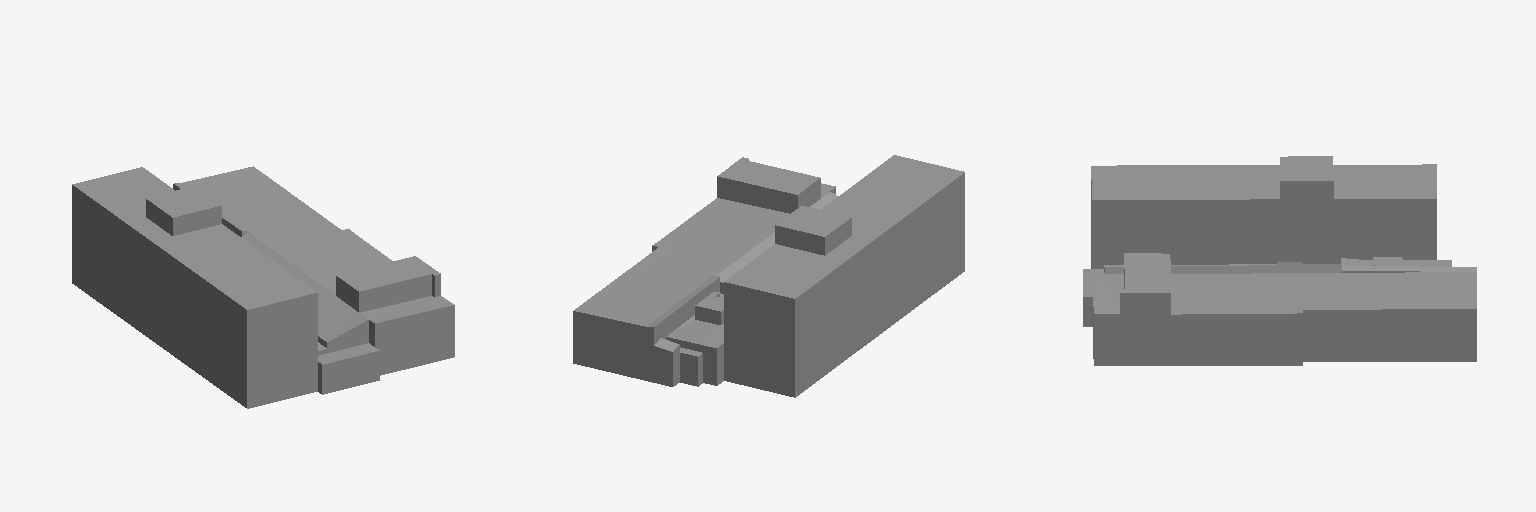
Rendered from talo_build0000030_rotated.obj.
The picture shows the model from 3 angles: view 1: azimuth 30°, elevation 25°; view 2: azimuth 150°, elevation 25°; view 3: azimuth 270°, elevation 25°; orthographic projection.
Visible parts, largest first — view 1: talo_Build[number redacted]; view 2: talo_Build[number redacted]; view 3: talo_Build[number redacted].
Part boxes in pixels (left/top/right/bottom): talo_Build[number redacted]: left=72, top=166, right=454, bottom=408; talo_Build[number redacted]: left=573, top=155, right=964, bottom=397; talo_Build[number redacted]: left=1083, top=156, right=1476, bottom=365.
Bounding box in the file's own units: 3.44 × 1.83 × 5.57.